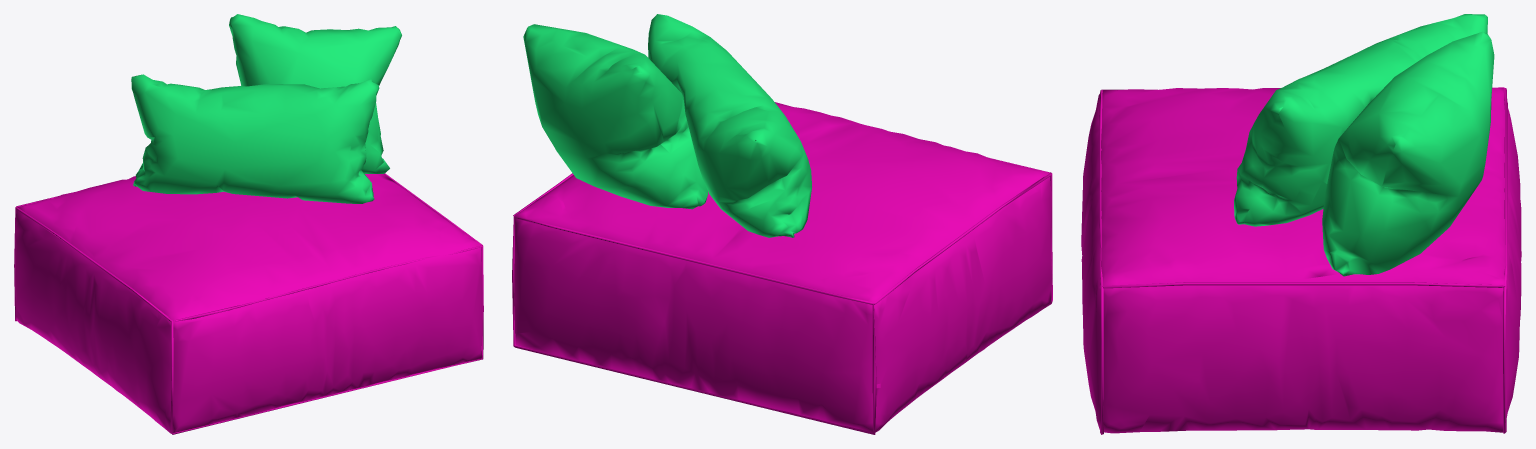
Rendered from chari.glb.
3 views of the same model, side by side, from view 1: azimuth 30°, elevation 25°; view 2: azimuth 150°, elevation 25°; view 3: azimuth 270°, elevation 25° (orthographic). The views are drawn at different scales.
Visible parts, largest first — view 1: seat, cushions; view 2: seat, cushions; view 3: seat, cushions.
Boxes of the visible parts, left/top/right/bottom form: seat: left=14, top=173, right=483, bottom=434; cushions: left=131, top=14, right=401, bottom=203; seat: left=512, top=102, right=1052, bottom=434; cushions: left=523, top=14, right=811, bottom=237; seat: left=1081, top=87, right=1521, bottom=434; cushions: left=1234, top=14, right=1494, bottom=276.
Size of the model in its own units: 1.2 by 0.8596 by 1.01.
